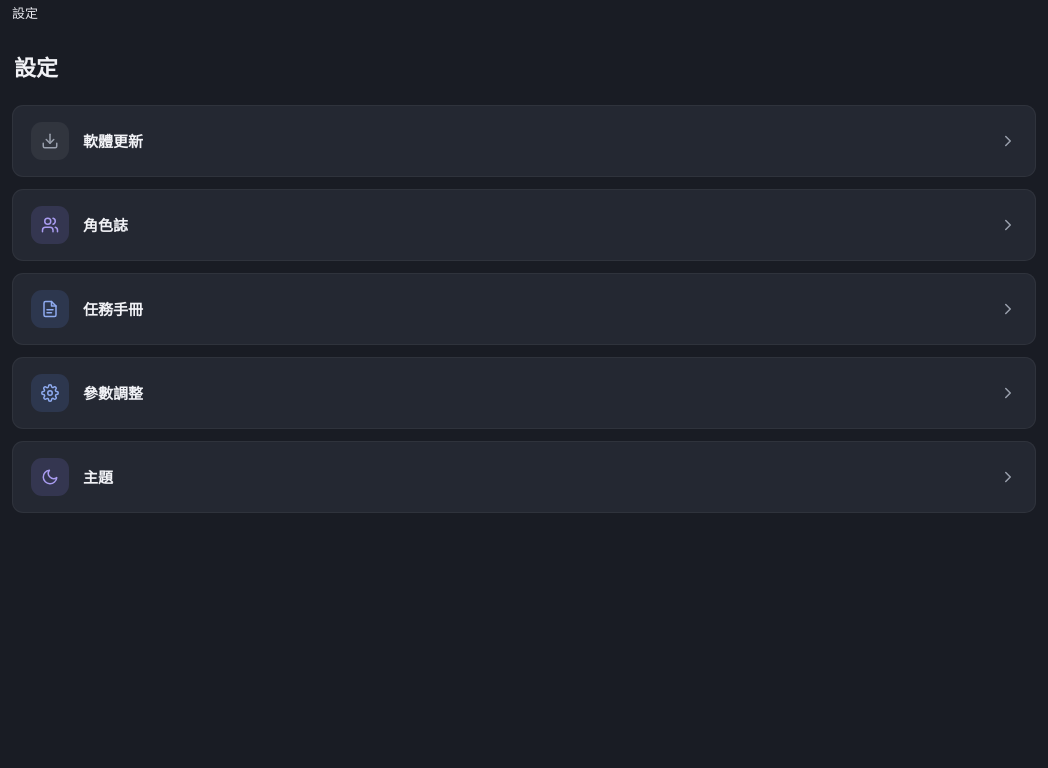
SettingsPage · 角色誌 新增角色定義 (inline row) › grows an inline single-field row and creates one role + one server-named member
The width and height of the screenshot is (1048, 768).
Click the button "角色誌": x=50, y=224 [12,188,1036,260]
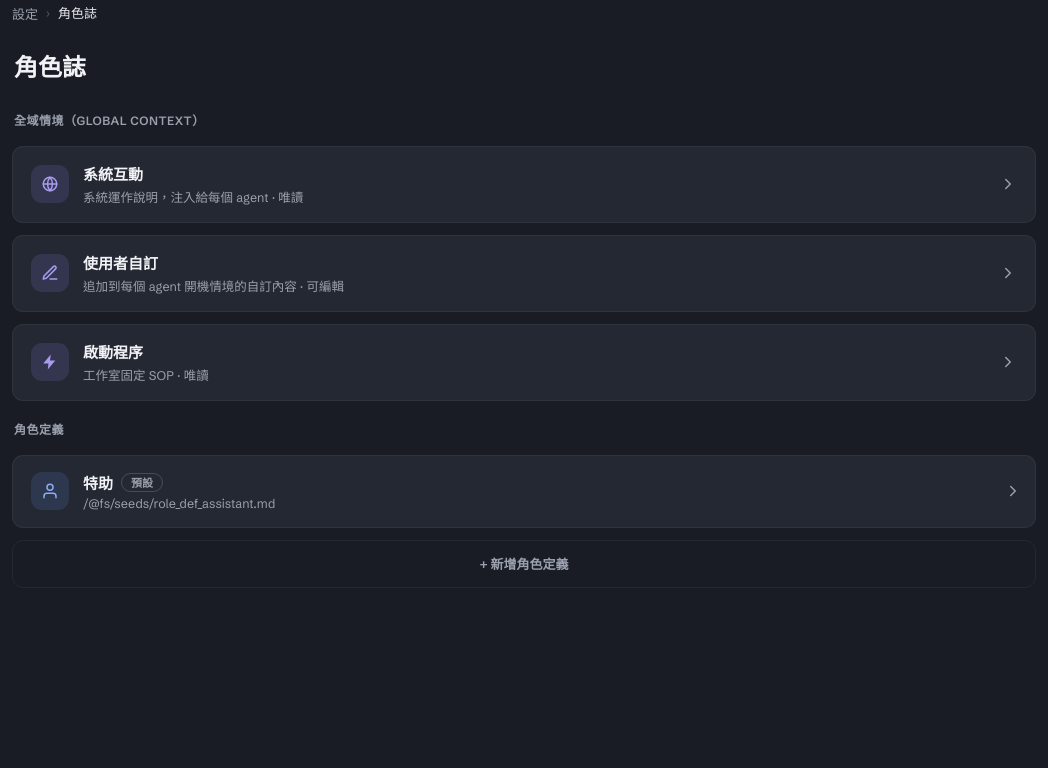
Now the text "系統互動" is shown, box [83,164,143,184]
Click the button "+ 新增角色定義": x=524, y=564 [12,540,1036,588]
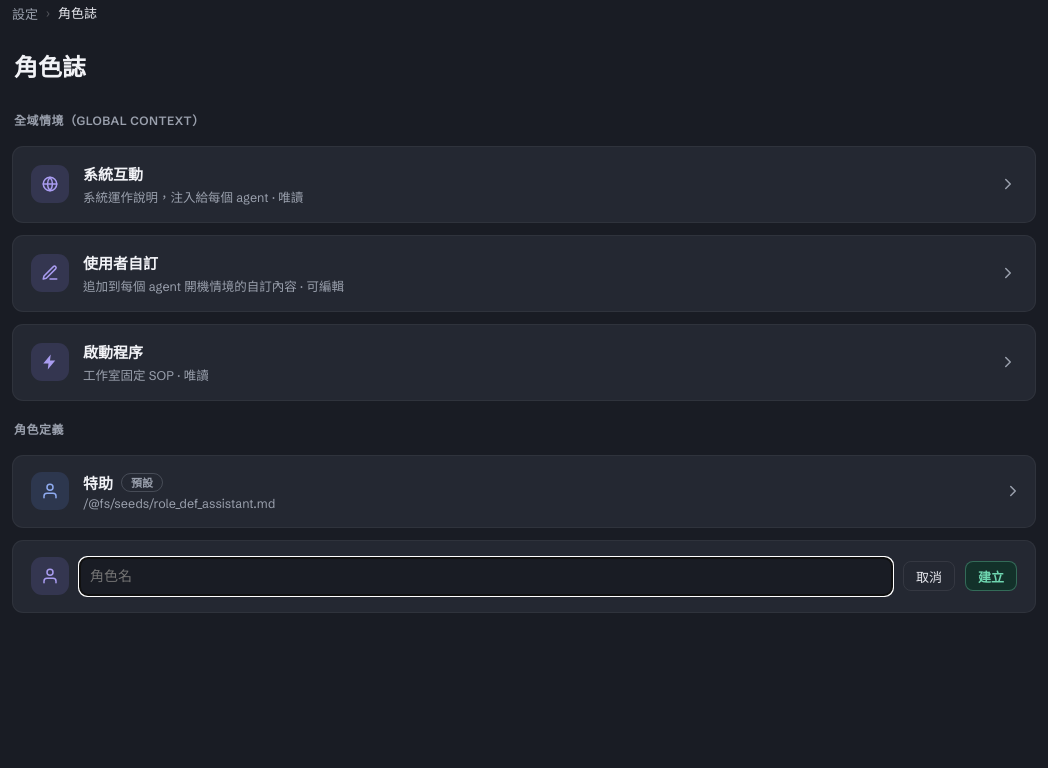
Now the number of fields is 1
In the field with test id "role-create-name": x=486, y=576 [79,556,893,596], type "研究員"
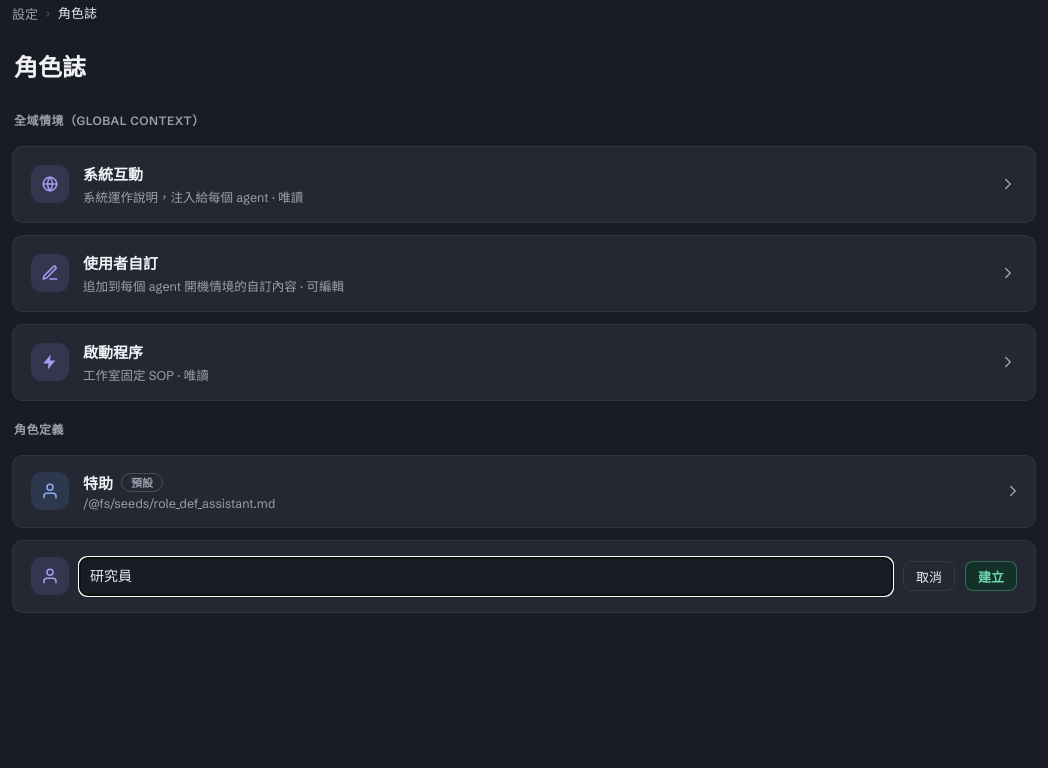
Press Enter in the field with test id "role-create-name", box [79,556,893,596]
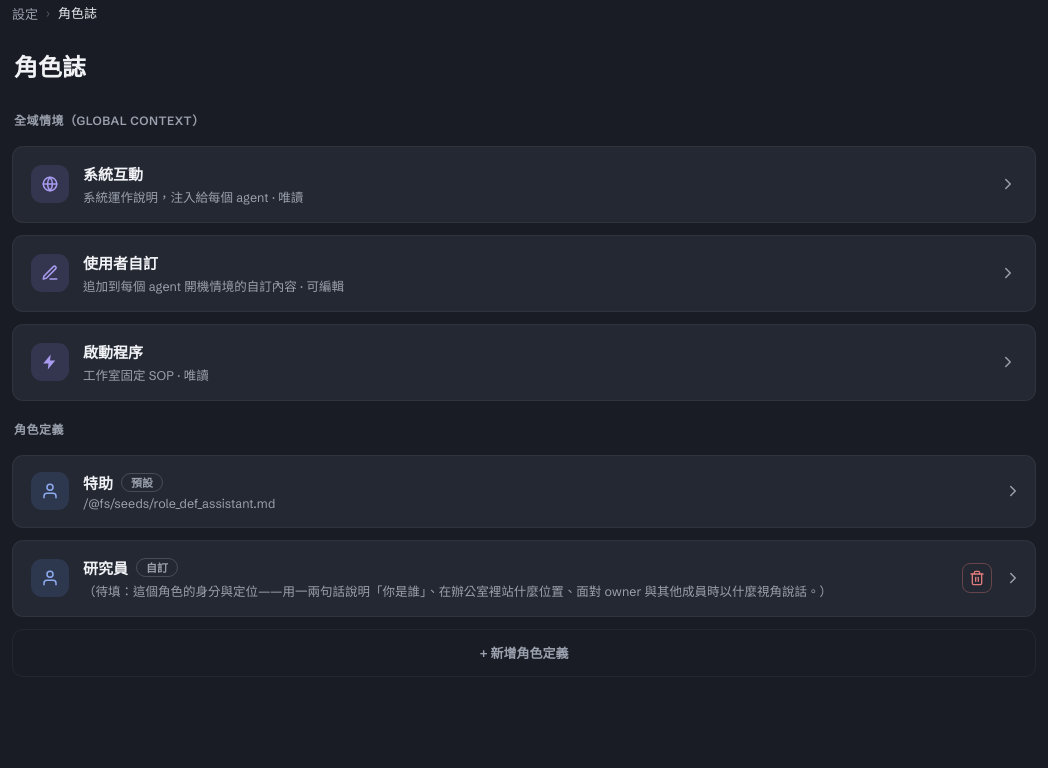
Now the text "研究員" is shown, box [83,558,128,578]
Now the text "自訂" is shown, box [136,558,178,576]
Now the element with test id "role-create-row" is gone
